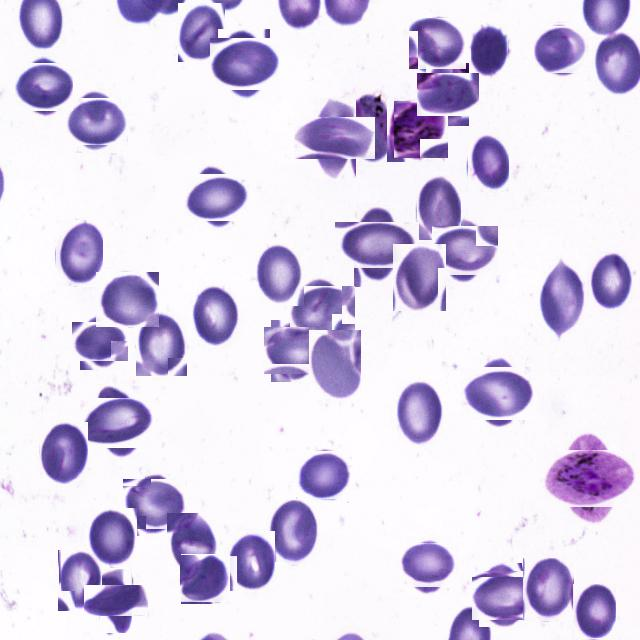difficult: (552, 441, 628, 516), (386, 100, 446, 160)
red blood cell: (466, 360, 531, 426), (345, 212, 410, 278), (85, 392, 148, 454), (304, 108, 366, 170), (392, 244, 446, 312), (213, 34, 274, 94), (309, 330, 361, 399), (98, 270, 158, 328), (268, 500, 320, 566), (540, 262, 586, 336), (293, 282, 351, 340), (436, 222, 494, 280), (395, 380, 444, 448), (135, 313, 187, 377), (522, 558, 574, 622), (56, 220, 104, 287), (254, 242, 304, 306), (188, 169, 245, 225), (40, 422, 88, 488), (167, 513, 218, 575), (349, 93, 394, 163), (476, 567, 532, 623), (86, 508, 137, 569), (126, 477, 182, 532), (69, 94, 124, 149), (410, 16, 466, 70), (268, 323, 322, 378), (194, 284, 240, 347), (228, 531, 275, 592), (417, 175, 461, 240), (421, 68, 474, 121), (18, 60, 70, 114), (178, 3, 225, 62), (298, 449, 351, 501), (404, 540, 456, 592), (58, 550, 102, 611), (536, 24, 586, 75), (180, 554, 230, 604), (589, 253, 632, 311), (572, 584, 616, 639), (468, 134, 509, 192), (76, 318, 124, 366), (92, 577, 140, 625), (470, 24, 508, 78)
